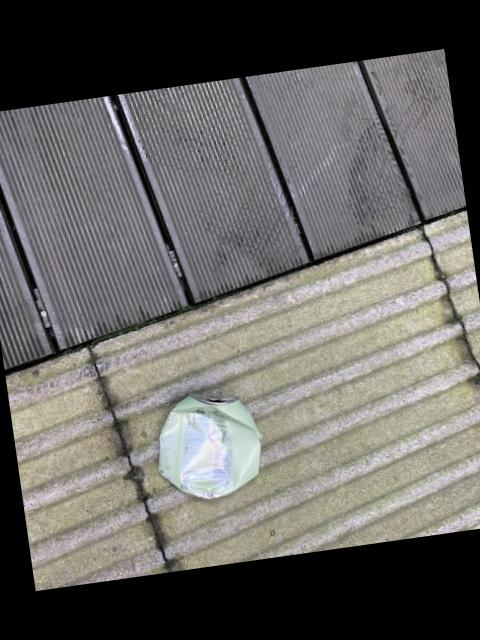metal: (158, 395, 260, 498)
